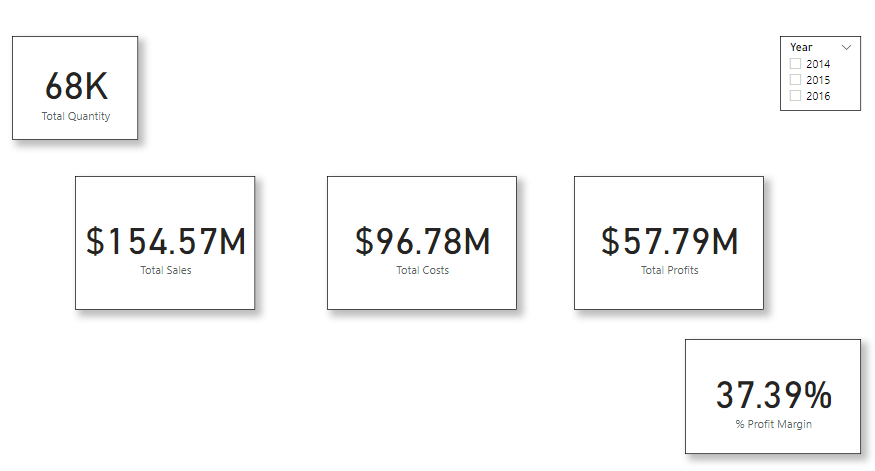

What the dashboard file says about the page in this screenshot:
{"tool":"powerbi","page":{"name":"Total Sales, Quantity","canvas":[1280,720],"ordinal":0},"visuals":[{"type":"card","fields":{"Values":["Imp Measures.Total Sales"]},"box":[112.5,264,259.7,193.3],"z":0},{"type":"card","fields":{"Values":["Imp Measures.Total Quantity"]},"box":[21.6,62,181.8,150.1],"z":1000},{"type":"card","fields":{"Values":["Imp Measures.Total Profits"]},"box":[832.5,264,274.1,193.3],"z":2000},{"type":"card","fields":{"Values":["Imp Measures.% Profit Margin"]},"box":[992.7,499.2,253.9,165.9],"z":3000},{"type":"card","fields":{"Values":["Imp Measures.Total Costs"]},"box":[476.2,264,274.1,193.3],"z":4000},{"type":"slicer","fields":{"Values":["DateDim.Year"]},"box":[1129.8,62,116.9,108.2],"z":5000}]}

Visuals, with their boxes on the page's 1280x720 design canvas (x1, y1, x2, y2). These are canvas units, not pixel positions in the 875x471 screenshot, which may show the page scaled, cropped or inside an application window:
card - Imp Measures.Total Sales: {"x1": 112, "y1": 264, "x2": 372, "y2": 457}
card - Imp Measures.Total Quantity: {"x1": 22, "y1": 62, "x2": 203, "y2": 212}
card - Imp Measures.Total Profits: {"x1": 832, "y1": 264, "x2": 1107, "y2": 457}
card - Imp Measures.% Profit Margin: {"x1": 993, "y1": 499, "x2": 1247, "y2": 665}
card - Imp Measures.Total Costs: {"x1": 476, "y1": 264, "x2": 750, "y2": 457}
slicer - DateDim.Year: {"x1": 1130, "y1": 62, "x2": 1247, "y2": 170}
